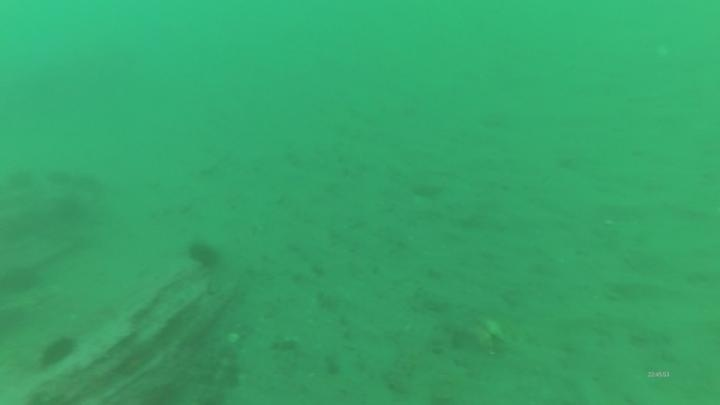echinus: (36, 333, 79, 372), (1, 261, 44, 298), (185, 238, 223, 271)
